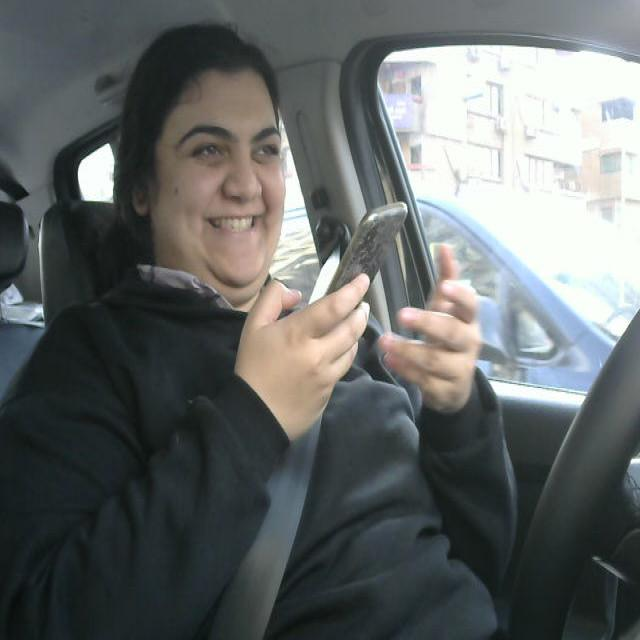mobile use: (321, 190, 412, 346)
